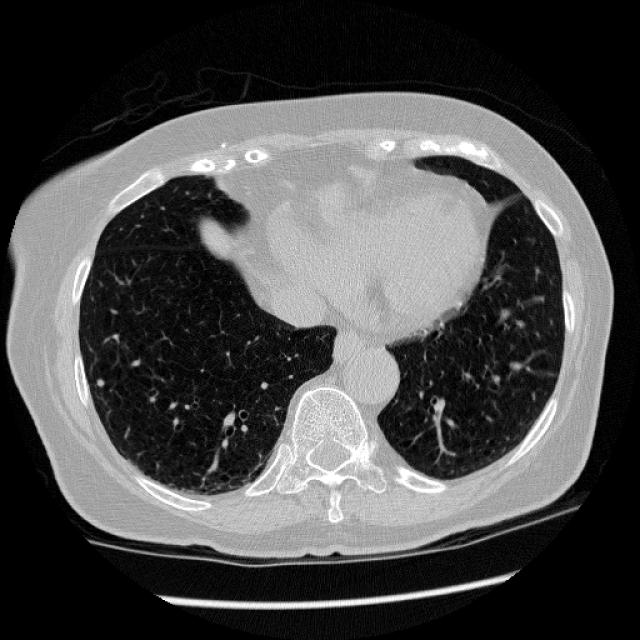nodule: (89, 371, 109, 391)
